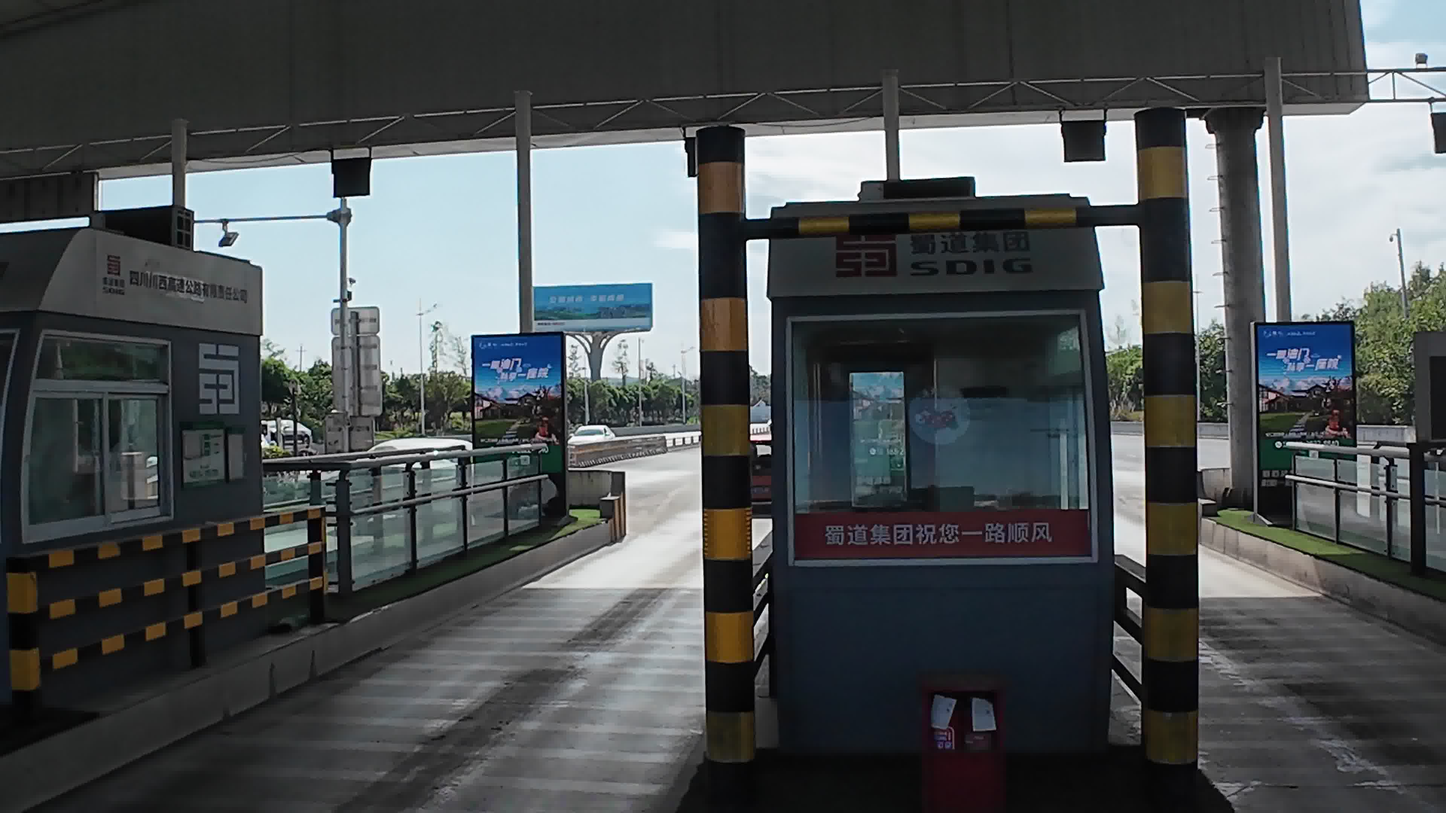fire_box: (904, 663, 1012, 813)
led_screen: (1253, 318, 1349, 508), (482, 322, 554, 475), (0, 167, 93, 234), (1049, 106, 1111, 167), (322, 131, 371, 206)
roadside_plant: (1350, 277, 1446, 415), (563, 366, 695, 424), (374, 366, 478, 415)
toll_booth: (761, 171, 1120, 783), (0, 246, 266, 713)
warning_sign: (333, 284, 378, 404)
